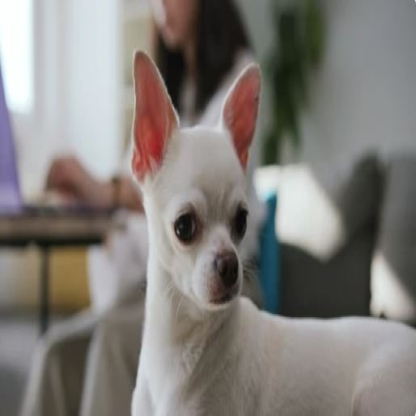chihuahua: (126, 46, 416, 414)
